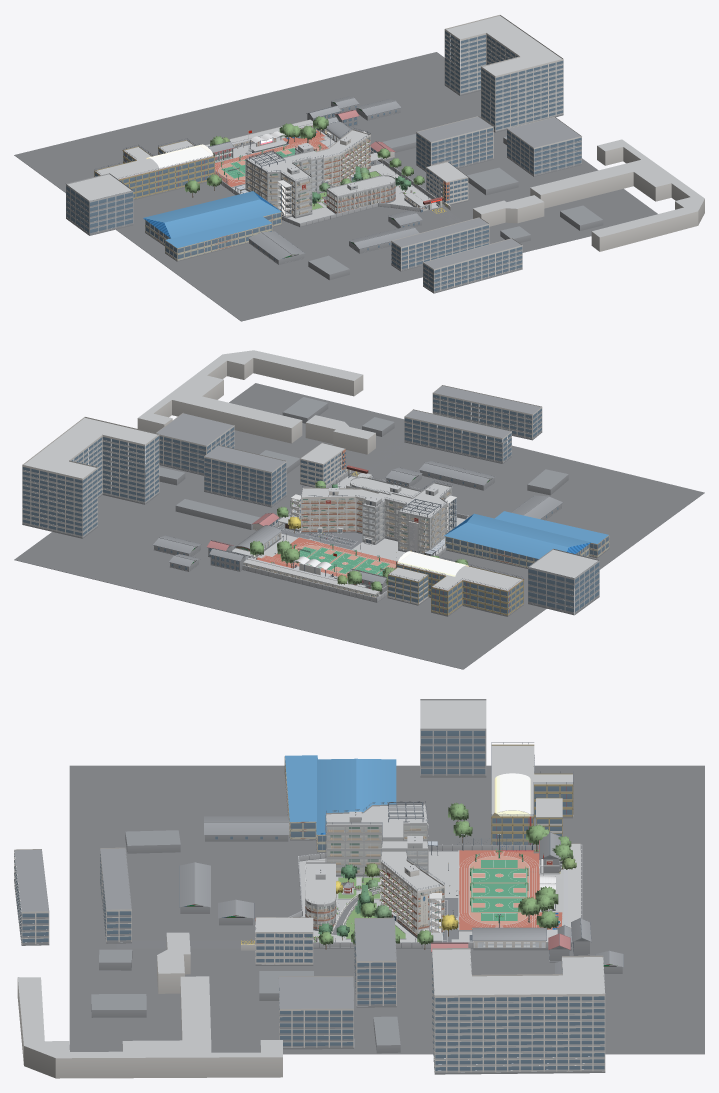
Rendered from west-campus.glb.
3 views of the same model, one above another, from view 1: azimuth 30°, elevation 25°; view 2: azimuth 150°, elevation 25°; view 3: azimuth 270°, elevation 25° (orthographic). The views are drawn at different scales.
Visible parts, largest first — view 1: Context_West, Campus_Ground_West, W-B1, W-B4, W-B3, W-P1, W-P2, W-B2, W-B6, W-B5, W-H1; view 2: Context_West, Campus_Ground_West, W-B1, W-B3, W-P1, W-B5, W-B2, W-B6, W-B4, W-P2, W-H1; view 3: Campus_Ground_West, Context_West, W-P1, W-B1, W-B3, W-B6, W-B4, W-H1, W-B5, W-L2, W-B2, W-ST1 (+2 smaller).
Part boxes in pixels (<box>): Context_West: <box>66,15,704,293</box>; Campus_Ground_West: <box>14,52,657,321</box>; W-B1: <box>245,150,312,218</box>; W-B4: <box>326,173,422,213</box>; W-B3: <box>314,128,370,191</box>; W-P1: <box>207,125,328,186</box>; W-P2: <box>245,123,301,154</box>; W-B2: <box>295,143,329,193</box>; W-B6: <box>313,116,351,142</box>; W-B5: <box>205,119,313,148</box>; W-H1: <box>202,136,234,164</box>; Context_West: <box>22,350,609,616</box>; Campus_Ground_West: <box>14,383,704,669</box>; W-B1: <box>384,481,456,555</box>; W-B3: <box>301,485,379,533</box>; W-P1: <box>262,537,403,585</box>; W-B5: <box>243,558,379,597</box>; W-B2: <box>362,490,390,545</box>; W-B6: <box>227,525,281,559</box>; W-B4: <box>346,475,422,498</box>; W-P2: <box>280,548,337,579</box>; W-H1: <box>337,567,397,594</box>; Campus_Ground_West: <box>69,765,704,1054</box>; Context_West: <box>14,699,623,1078</box>; W-P1: <box>459,849,540,929</box>; W-B1: <box>325,801,428,876</box>; W-B3: <box>379,849,444,938</box>; W-B6: <box>469,910,572,950</box>; W-B4: <box>278,860,339,937</box>; W-H1: <box>526,824,576,874</box>; W-B5: <box>563,843,580,928</box>; W-L2: <box>336,863,380,899</box>; W-B2: <box>378,836,428,891</box>; W-ST1: <box>422,893,458,942</box>.
Size of the model in its own units: 333 by 37.35 by 294.
Materials: 78 (10 with a texture image).
